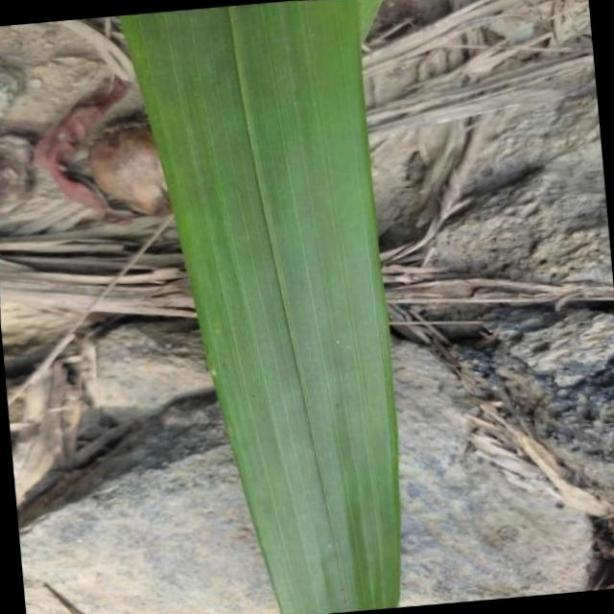Healthy: (120, 0, 401, 614)
